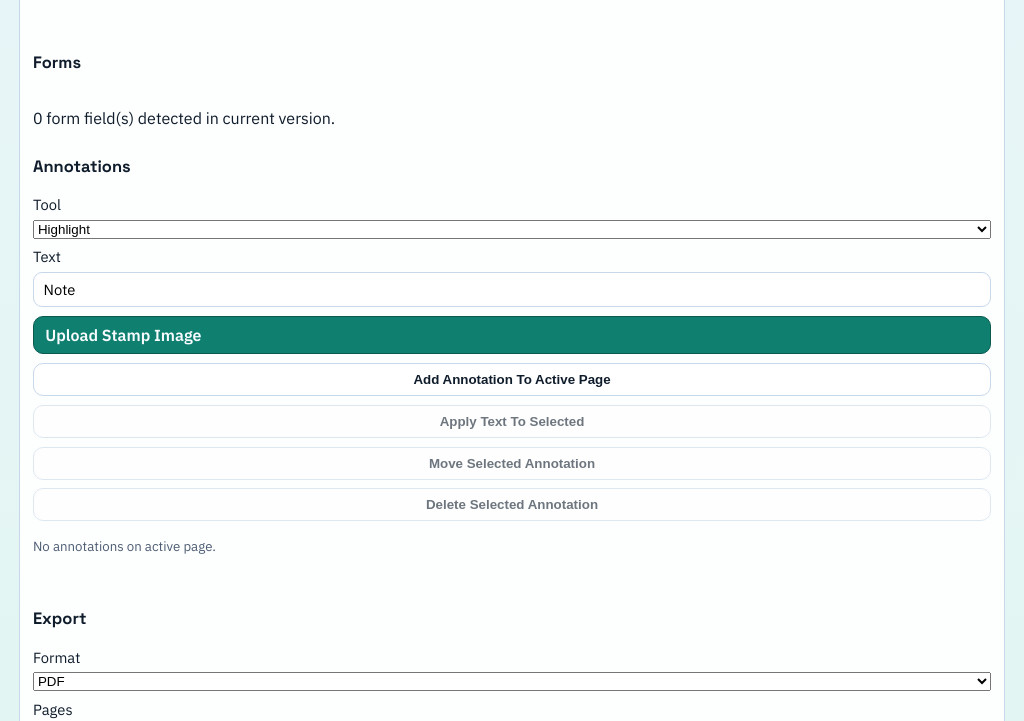
Test case: App flows › loads persisted annotations and edits by selection
(page scrolled)
Click the button "Add Annotation To Active Page" at point(512, 380), box [33, 363, 991, 396]
(page scrolled)
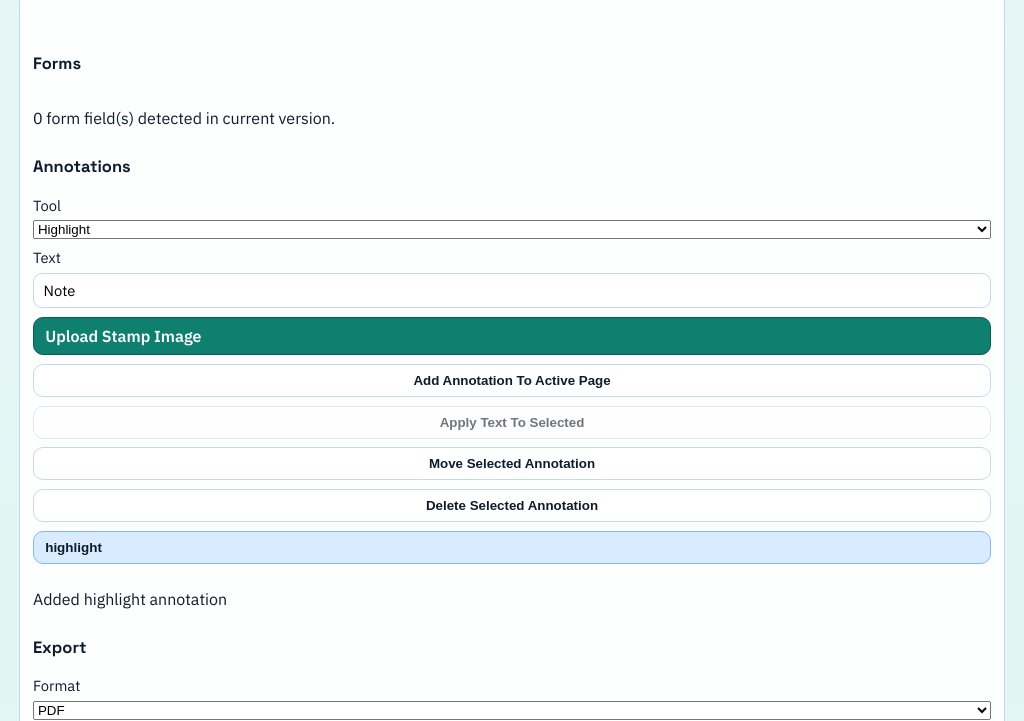
Expected: the button "highlight" is shown, [33, 531, 991, 564]
Click the button "Move Selected Annotation" at point(512, 464), box [33, 447, 991, 480]
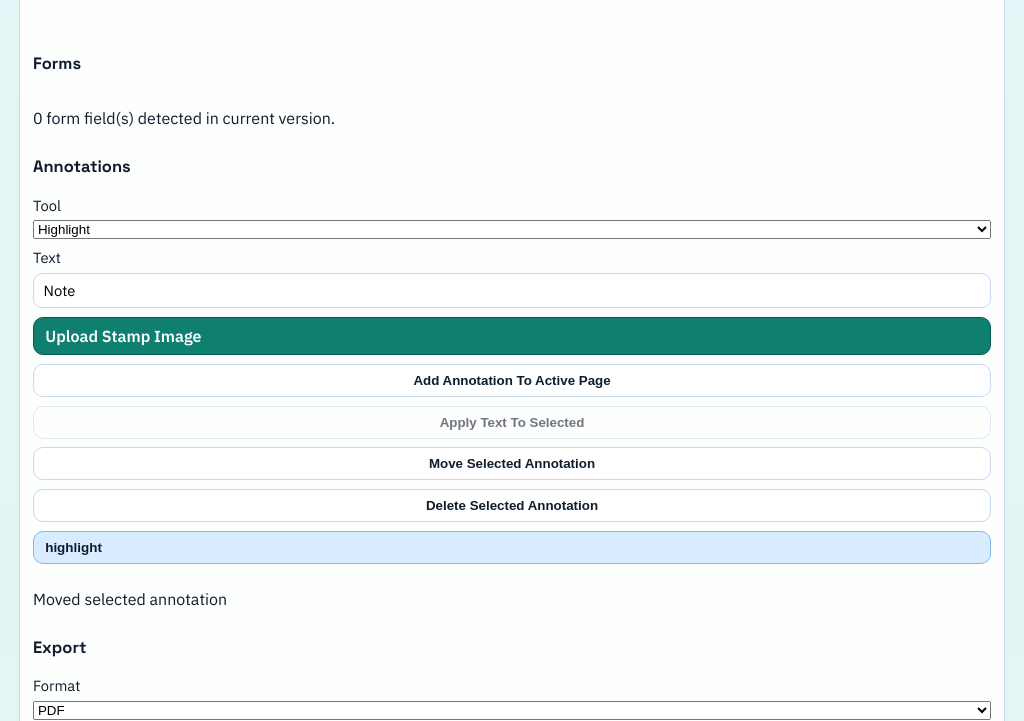
Expected: the text "Moved selected annotation" is shown, [33, 589, 227, 609]
Click the button "Delete Selected Annotation" at point(512, 506), box [33, 489, 991, 522]
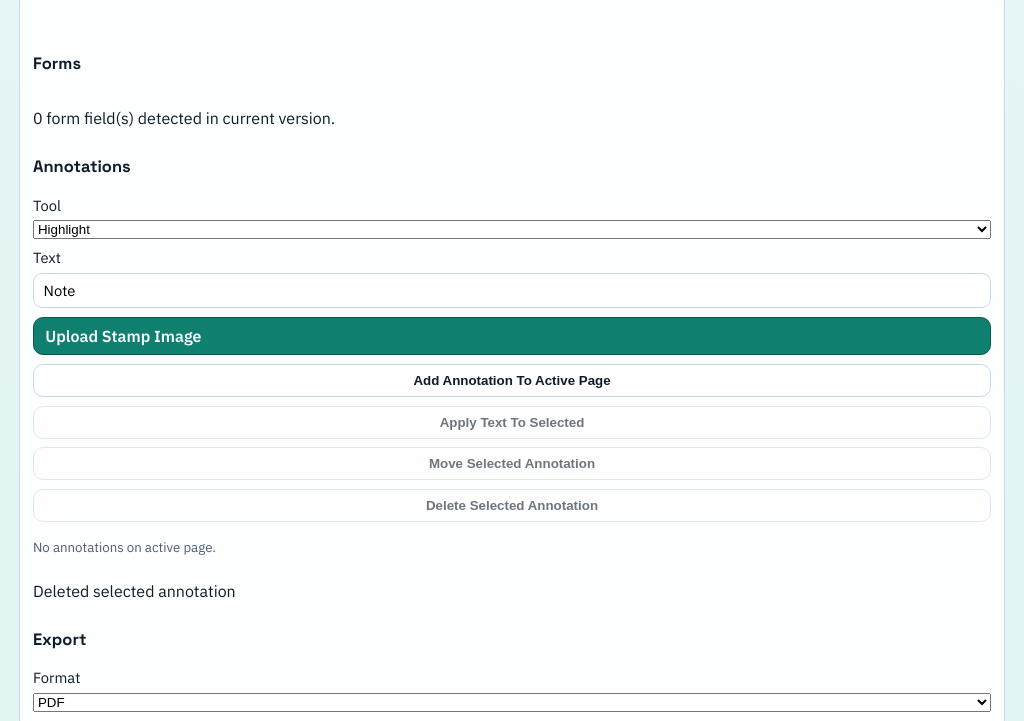
Expected: the text "No annotations on active page." is shown, [33, 538, 216, 556]
